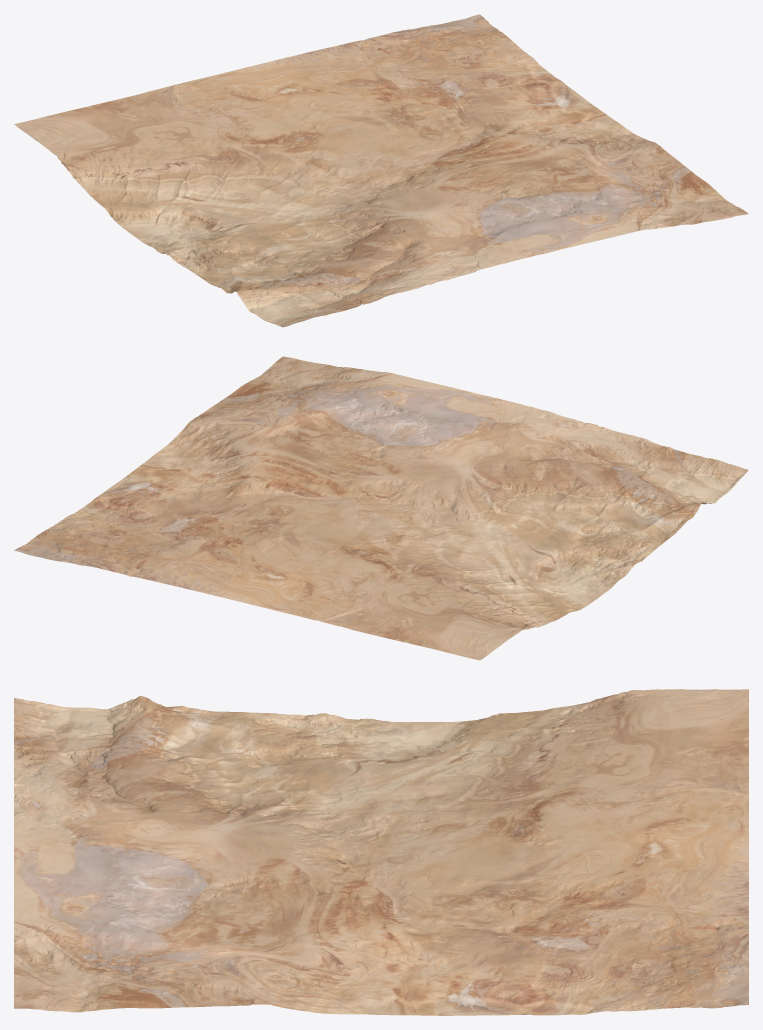
Rendered from water_01.glb.
3 views of the same model, one above another, from view 1: azimuth 30°, elevation 25°; view 2: azimuth 150°, elevation 25°; view 3: azimuth 270°, elevation 25° (orthographic). The views are drawn at different scales.
Visible parts, largest first — view 1: Object_3, Object_2, Object_5, Object_6, Object_4, Object_7; view 2: Object_2, Object_3, Object_5, Object_6, Object_4, Object_7; view 3: Object_2, Object_3, Object_5, Object_6, Object_4, Object_7.
Boxes of the visible parts, bbox=[...] form: Object_3: bbox=[14, 14, 517, 287]; Object_2: bbox=[258, 57, 748, 268]; Object_5: bbox=[22, 15, 609, 290]; Object_6: bbox=[165, 157, 735, 323]; Object_4: bbox=[151, 16, 478, 327]; Object_7: bbox=[338, 18, 597, 293]; Object_2: bbox=[75, 356, 551, 563]; Object_3: bbox=[14, 496, 675, 660]; Object_5: bbox=[17, 428, 678, 658]; Object_6: bbox=[287, 360, 746, 590]; Object_4: bbox=[19, 462, 748, 582]; Object_7: bbox=[20, 406, 639, 550]; Object_2: bbox=[14, 801, 618, 1015]; Object_3: bbox=[152, 689, 748, 1009]; Object_5: bbox=[104, 694, 748, 1015]; Object_6: bbox=[14, 699, 541, 1002]; Object_4: bbox=[14, 696, 747, 1002]; Object_7: bbox=[25, 757, 740, 1015].
Size of the model in its own units: 2 by 0.1155 by 2.
1 material, 1 textured.
